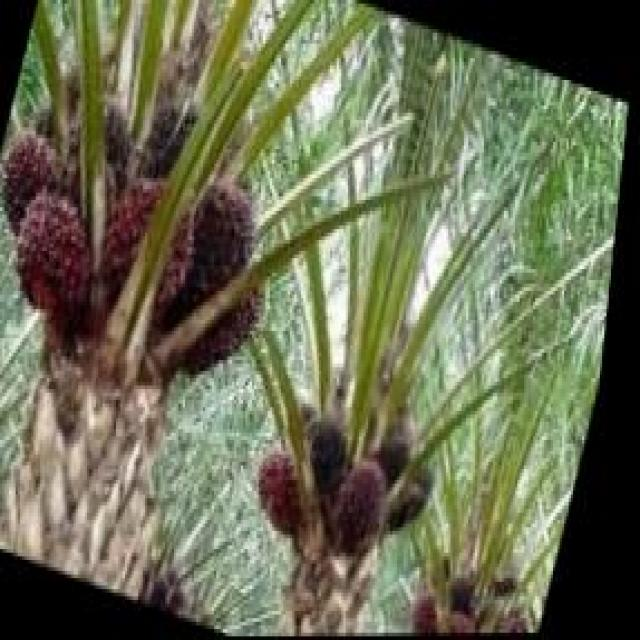Ripefruit: (2, 178, 114, 338), (100, 168, 212, 316), (0, 120, 69, 240), (252, 446, 321, 544), (418, 584, 458, 634), (458, 609, 501, 635)
